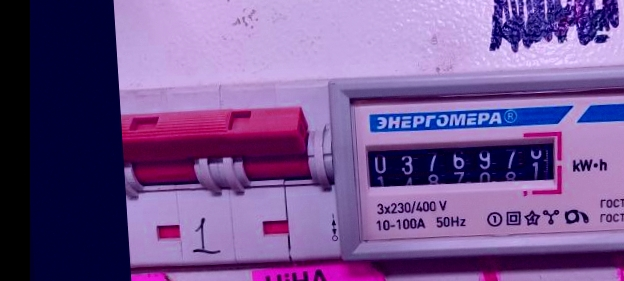0: (371, 150, 387, 173)
1: (529, 159, 541, 179)
3: (400, 153, 415, 175)
6: (450, 145, 467, 169)
7: (424, 148, 441, 173), (502, 145, 519, 169)
9: (476, 146, 492, 169)
screen: (356, 119, 570, 208)
